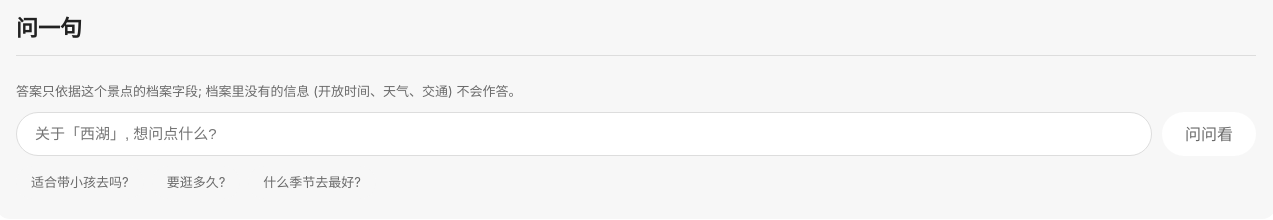
Test: AiAskBox › 可用时给出建议问题, 点一下就填进输入框
The image size is (1273, 220).
Click the button "要逛多久?" at point(196, 182), box x1=152 y1=166 x2=240 y2=199
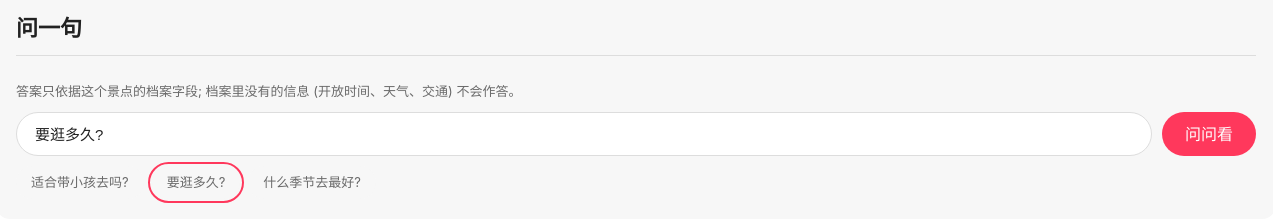
expect the field named "就这个景点问一句" holds "要逛多久?": met, box x1=16 y1=112 x2=1152 y2=156
